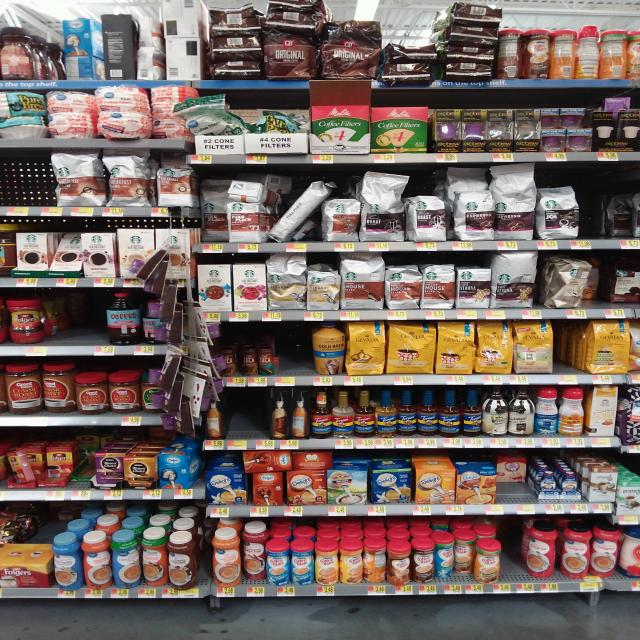unorganised: (167, 96, 310, 136), (81, 526, 166, 588), (542, 255, 639, 309), (265, 178, 337, 240), (549, 25, 627, 80), (596, 182, 640, 243), (434, 529, 474, 585), (338, 538, 386, 584), (200, 171, 229, 244), (229, 173, 294, 204), (156, 444, 203, 486), (525, 519, 556, 579), (496, 455, 534, 500), (41, 360, 75, 410), (140, 294, 175, 342), (49, 230, 82, 279), (241, 518, 265, 584), (497, 28, 522, 82), (480, 389, 508, 435), (289, 389, 311, 441), (7, 447, 36, 484), (78, 432, 96, 479)
